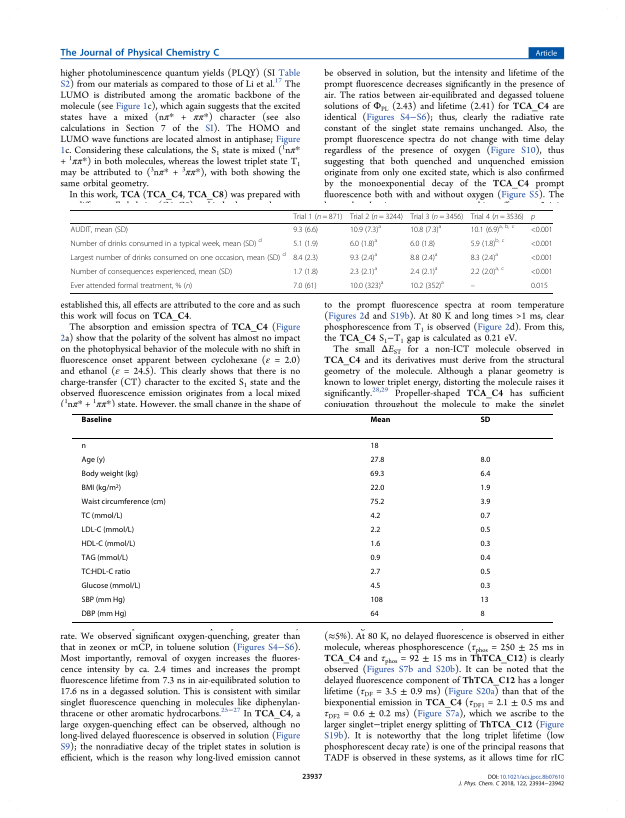borderless: (71, 412, 553, 622), (69, 208, 553, 293)
cell: (70, 251, 287, 263), (70, 237, 263, 249), (70, 267, 233, 277), (70, 281, 193, 291), (81, 497, 167, 507), (81, 581, 142, 591), (70, 225, 129, 235), (81, 469, 139, 479), (81, 539, 136, 549), (470, 223, 515, 235), (81, 525, 135, 535), (81, 567, 131, 577), (349, 212, 404, 221), (409, 212, 464, 221), (470, 212, 525, 221), (81, 553, 129, 563), (81, 609, 127, 619), (292, 212, 343, 221), (81, 595, 126, 605), (409, 279, 445, 291), (470, 237, 505, 249), (470, 265, 505, 277), (349, 279, 384, 291), (81, 511, 123, 521), (81, 483, 122, 493), (349, 223, 382, 235), (409, 223, 442, 235), (349, 237, 378, 249), (349, 251, 378, 263), (409, 251, 438, 263), (470, 251, 499, 263), (349, 265, 378, 277), (409, 265, 438, 277), (292, 225, 319, 235), (292, 239, 319, 249), (409, 239, 436, 249), (292, 253, 319, 263), (292, 267, 319, 277), (81, 415, 113, 423), (292, 281, 317, 291), (81, 455, 106, 465), (530, 225, 553, 235), (530, 239, 553, 249), (530, 253, 553, 263), (530, 267, 553, 277), (530, 281, 549, 291), (369, 415, 391, 423), (369, 455, 385, 465), (369, 469, 385, 479), (369, 483, 385, 493), (369, 497, 385, 507), (369, 595, 384, 605), (479, 455, 491, 465), (479, 469, 491, 479), (479, 483, 491, 493), (479, 497, 491, 507), (369, 511, 381, 521), (479, 511, 491, 521), (369, 525, 381, 535), (479, 525, 491, 535), (369, 539, 381, 549), (479, 539, 491, 549), (369, 553, 381, 563), (479, 553, 491, 563), (369, 567, 381, 577), (479, 567, 491, 577), (369, 581, 381, 591), (369, 441, 380, 451), (480, 581, 491, 591), (479, 595, 490, 605), (369, 609, 380, 619), (479, 415, 491, 423), (479, 609, 486, 619), (81, 441, 87, 451), (530, 214, 536, 221), (470, 285, 476, 289)
